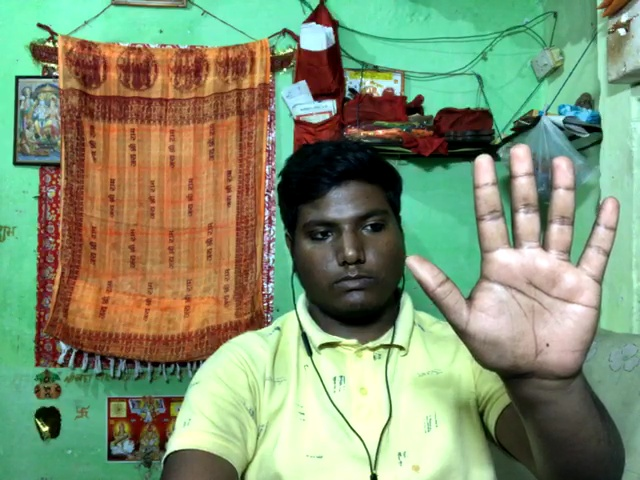Hello: (395, 145, 624, 374)
